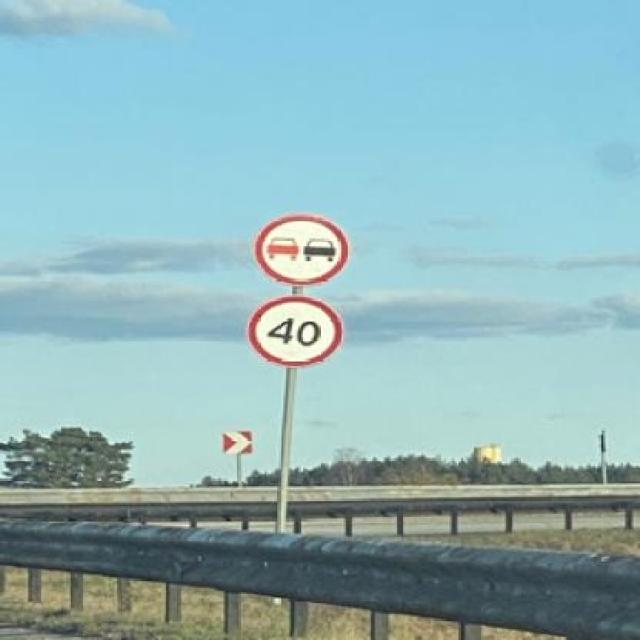forb_speed_over_40: (248, 291, 345, 367)
